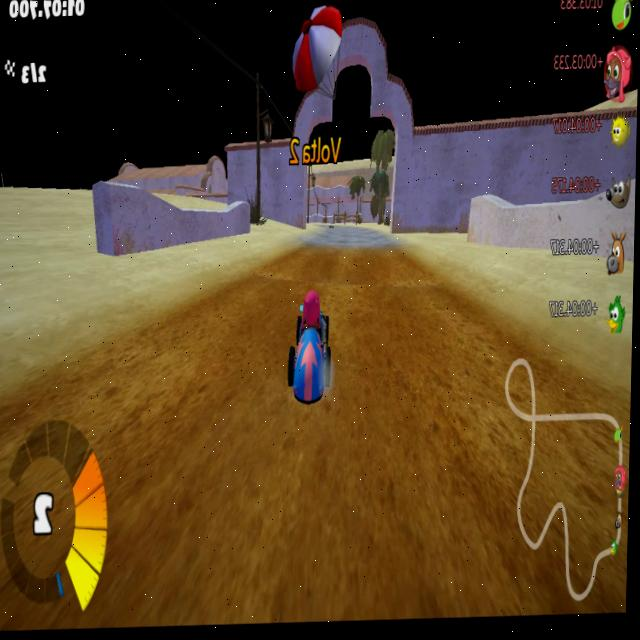player_kart: (285, 282, 338, 414)
track: (0, 395, 284, 638), (331, 390, 630, 612), (160, 292, 284, 404), (334, 348, 573, 397), (280, 411, 335, 623), (337, 294, 504, 351), (29, 341, 159, 402), (341, 254, 440, 297), (263, 256, 342, 288), (314, 218, 375, 251), (226, 266, 262, 299), (373, 235, 400, 252), (303, 234, 316, 249)
